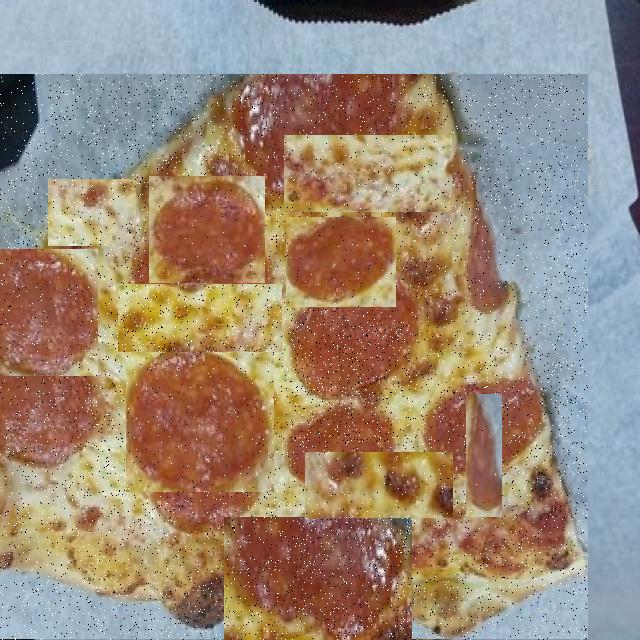Cheese: (284, 136, 452, 213), (118, 284, 282, 352), (305, 452, 453, 518), (48, 179, 136, 246)
Pepperoni: (225, 517, 412, 640), (126, 346, 274, 492), (289, 314, 410, 444), (0, 249, 98, 376), (149, 176, 265, 283), (431, 230, 544, 332), (286, 217, 396, 307), (466, 394, 502, 517)
Pizza: (0, 74, 588, 640)
